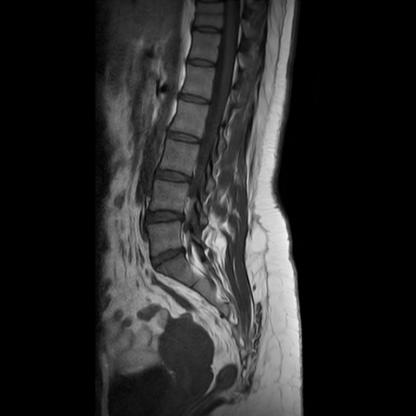Disc Bulgerotation: (143, 209, 186, 229)
Disc Protrusionrotation: (149, 249, 188, 264)
